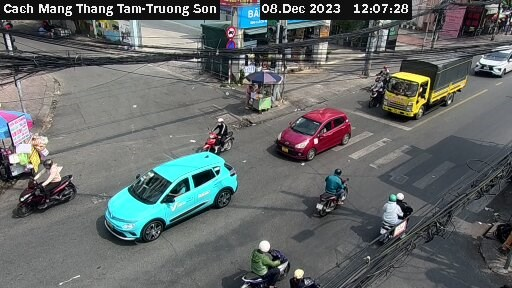car: (105, 153, 236, 243), (277, 109, 354, 163), (476, 43, 512, 74)
motorbike: (11, 167, 80, 215), (233, 243, 292, 288), (310, 164, 362, 211), (374, 199, 422, 246), (195, 119, 243, 154), (359, 79, 389, 102)
truck: (385, 51, 471, 118)
